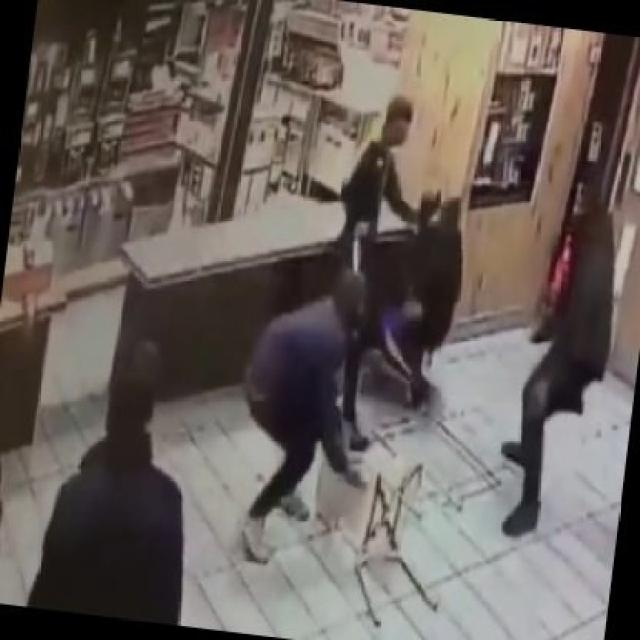fight: (235, 83, 458, 558)
non-fight: (501, 167, 616, 543)
